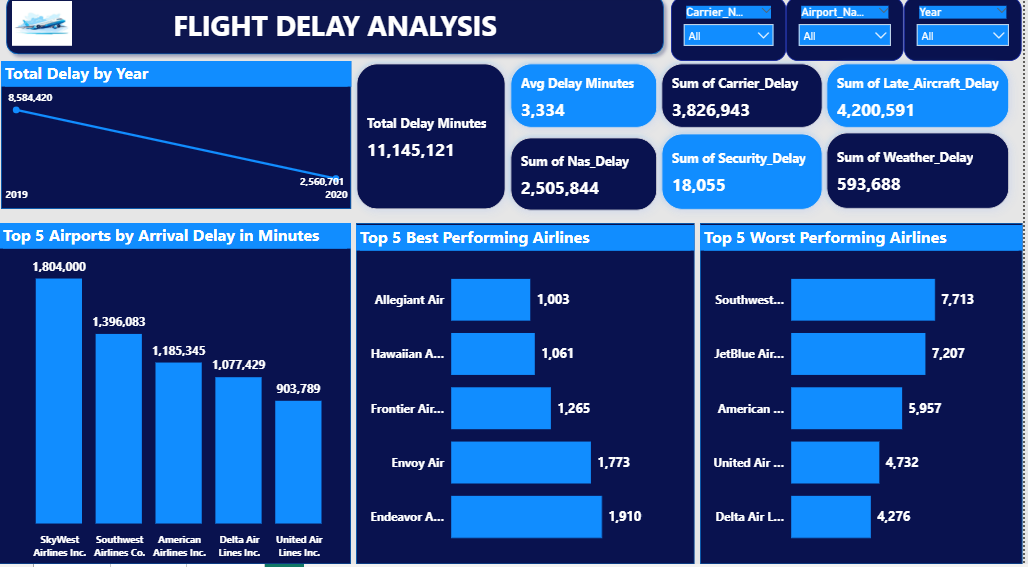

The dashboard page shown, as its layout file describes it:
{"tool":"powerbi","page":{"name":"Page 3","canvas":[1280,720],"ordinal":2},"visuals":[{"type":"shape","box":[446.8,293.3,423.3,426.7],"z":0},{"type":"shape","box":[2.8,91.8,437.6,184.9],"z":1000},{"type":"cardVisual","fields":{"Data":["Measure.Arrival Delay"]},"box":[430.6,77.6,220.2,216],"z":2000},{"type":"cardVisual","fields":{"Data":["Measure.Avg Delay"]},"box":[622.6,77.6,217.4,114.4],"z":3000},{"type":"lineChart","fields":{"Y":["Measure.Arrival Delay"],"Category":["Aviation.Year"]},"box":[2.8,91.8,437.6,184.9],"z":4000},{"type":"cardVisual","fields":{"Data":["Sum(Aviation.Carrier_Delay)"]},"box":[811.8,77.6,235.8,114.4],"z":5000},{"type":"cardVisual","fields":{"Data":["Sum(Aviation.Security_Delay)"]},"box":[811.8,165.2,235.8,129.9],"z":6000},{"type":"slicer","fields":{"Values":["airline_delay - Copy.carrier_name"]},"box":[840,11.3,144,80.5],"z":7000},{"type":"slicer","fields":{"Values":["Aviation.airport_name"]},"box":[984,11.3,146.8,80.5],"z":8000},{"type":"slicer","fields":{"Values":["Aviation.year"]},"box":[1130.8,11.3,146.8,80.5],"z":9000},{"type":"shape","box":[0,294,440.1,426.7],"z":10000},{"type":"clusteredColumnChart","title":"Top 5 Airports by Arrival Delay in Minutes","fields":{"Category":["Aviation.carrier_name"],"Y":["Measure.Arrival Delay"]},"box":[0,294,440.1,426.7],"z":11000},{"type":"cardVisual","fields":{"Data":["Sum(Aviation.Weather_Delay)"]},"box":[1017.9,163.8,262.6,129.9],"z":12000},{"type":"cardVisual","fields":{"Data":["Sum(Aviation.Late_Aircraft_Delay)"]},"box":[1017.9,77.6,262.6,114.4],"z":13000},{"type":"cardVisual","fields":{"Data":["Sum(Aviation.Nas_Delay)"]},"box":[622.6,169.4,217.4,125.6],"z":14000},{"type":"clusteredBarChart","title":"Top 5 Best Performing Airlines","fields":{"Category":["Aviation.Carrier_Name"],"Y":["Measure.Avg Delay"]},"box":[446.8,295.6,423.3,425],"z":15000},{"type":"shape","box":[876.9,294,403.1,426.7],"z":16000},{"type":"clusteredBarChart","title":"Top 5 Worst Performing Airlines","fields":{"Category":["Aviation.Carrier_Name"],"Y":["Measure.Avg Delay"]},"box":[876.9,295.6,403.1,425],"z":17000},{"type":"shape","box":[0,0,840,91.8],"z":18000},{"type":"image","box":[11.3,11.3,84.7,66.4],"z":19000}]}

Visuals, with their boxes in screenshot pixels (x1, y1, x2, y2), scaled from the page's 1280x720 canvas onto the 1028x567 screenshot:
shape: [359, 231, 699, 566]
shape: [2, 72, 354, 218]
cardVisual - Measure.Arrival Delay: [346, 61, 523, 231]
cardVisual - Measure.Avg Delay: [500, 61, 675, 151]
lineChart - Measure.Arrival Delay x Aviation.Year: [2, 72, 354, 218]
cardVisual - Sum(Aviation.Carrier_Delay): [652, 61, 841, 151]
cardVisual - Sum(Aviation.Security_Delay): [652, 130, 841, 232]
slicer - airline_delay - Copy.carrier_name: [675, 9, 790, 72]
slicer - Aviation.airport_name: [790, 9, 908, 72]
slicer - Aviation.year: [908, 9, 1026, 72]
shape: [0, 232, 353, 566]
"Top 5 Airports by Arrival Delay in Minutes" clusteredColumnChart: [0, 232, 353, 566]
cardVisual - Sum(Aviation.Weather_Delay): [818, 129, 1027, 231]
cardVisual - Sum(Aviation.Late_Aircraft_Delay): [818, 61, 1027, 151]
cardVisual - Sum(Aviation.Nas_Delay): [500, 133, 675, 232]
"Top 5 Best Performing Airlines" clusteredBarChart: [359, 233, 699, 566]
shape: [704, 232, 1027, 566]
"Top 5 Worst Performing Airlines" clusteredBarChart: [704, 233, 1027, 566]
shape: [0, 0, 675, 72]
image: [9, 9, 77, 61]
